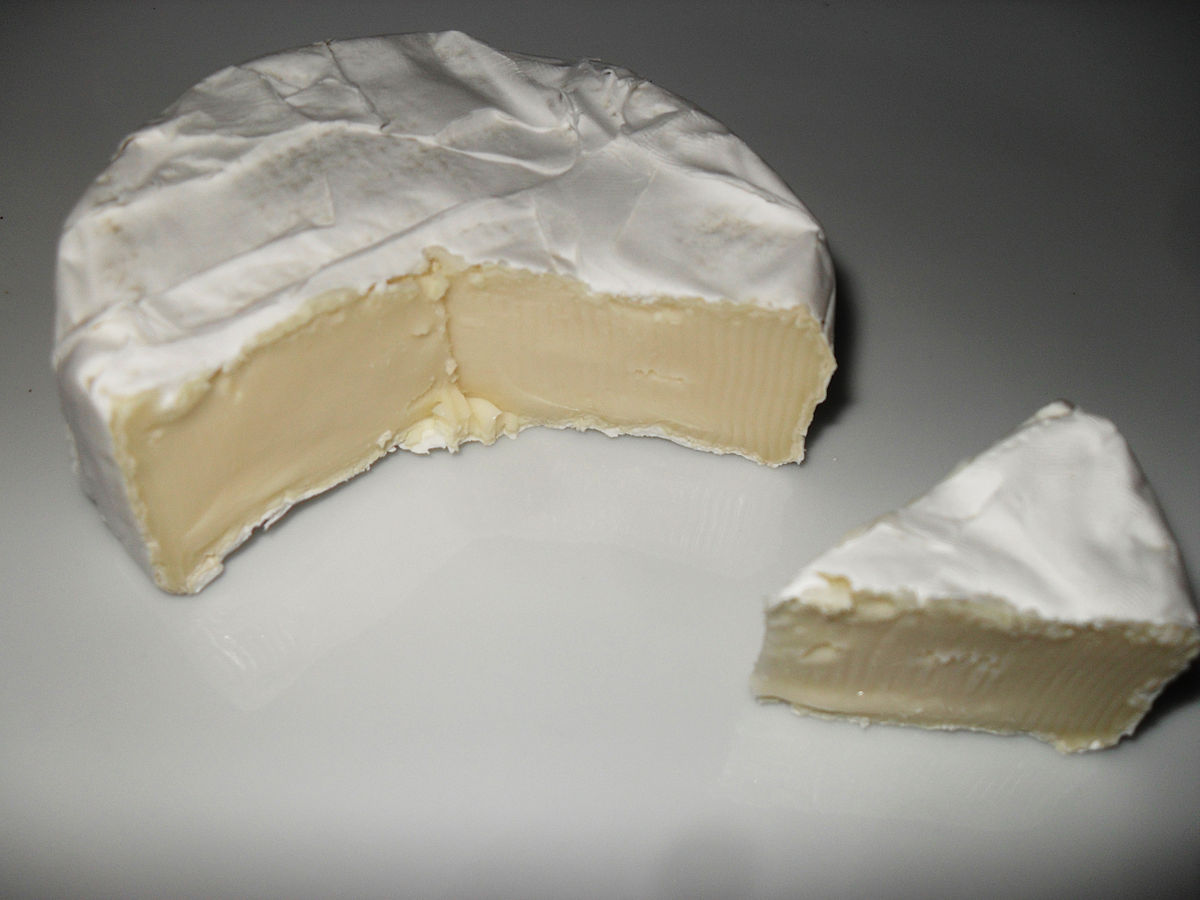camembert: (44, 29, 851, 607), (755, 398, 1200, 765)
